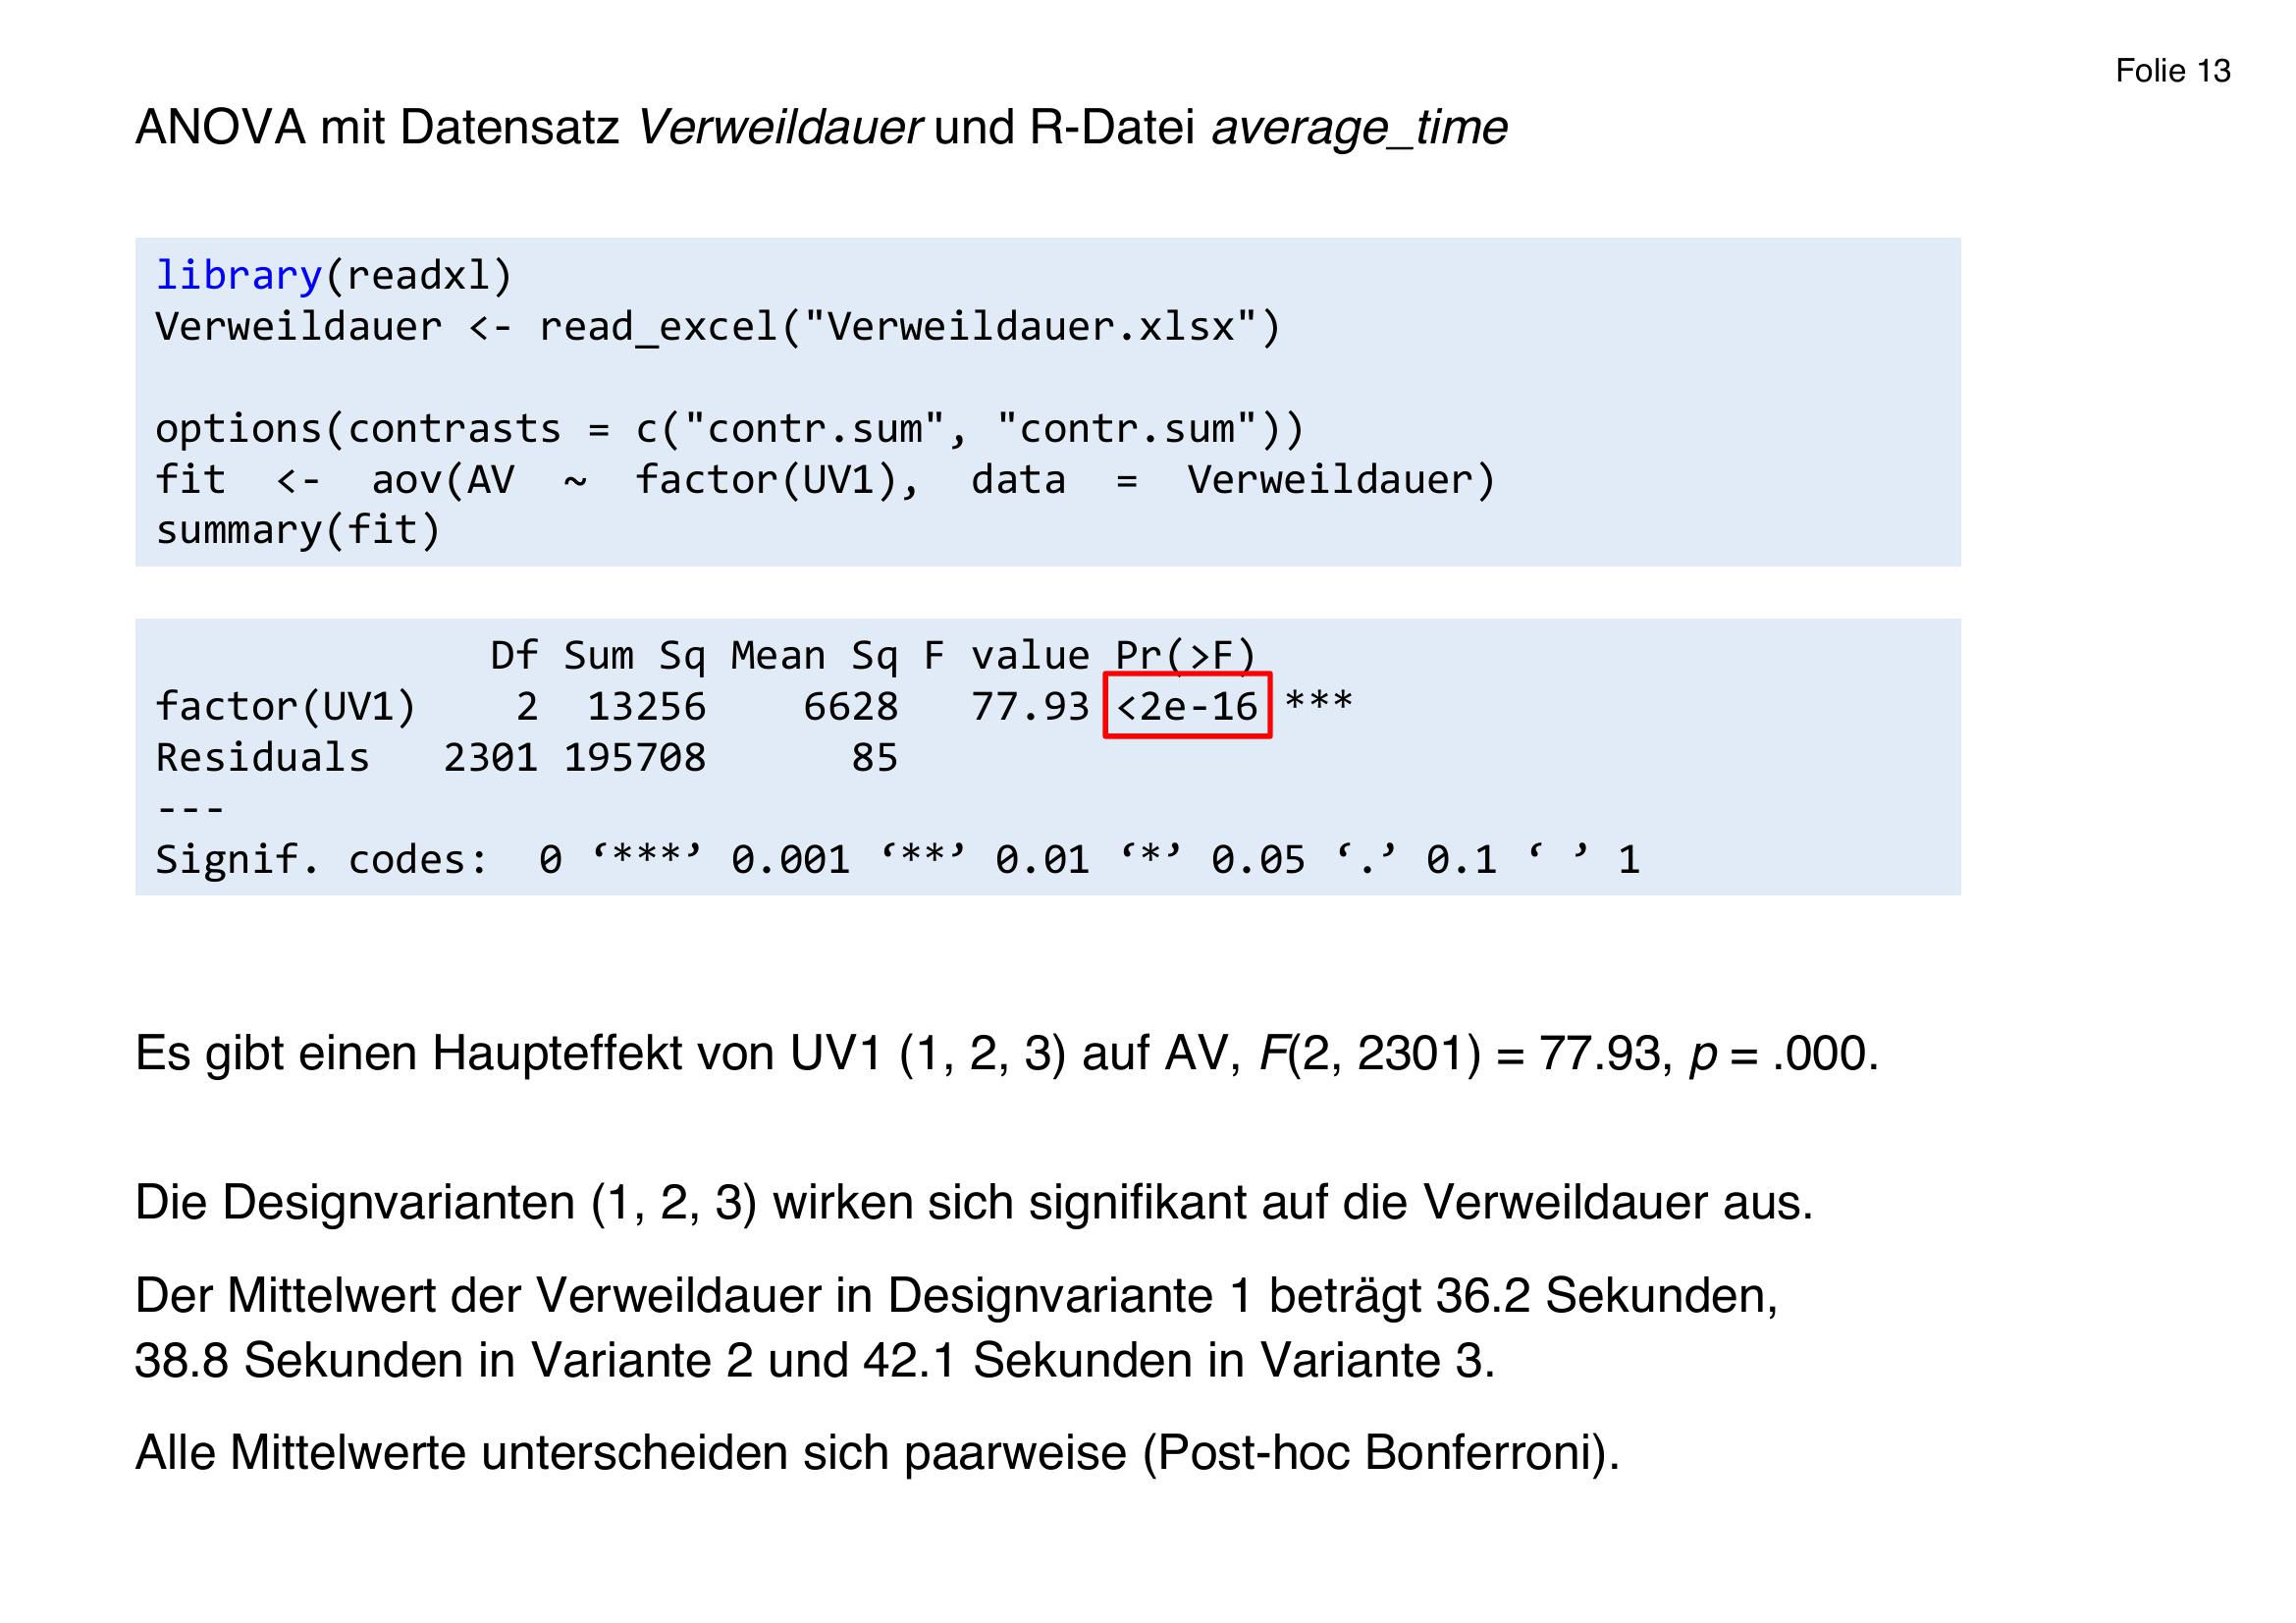Title: (116, 86, 1548, 169)
